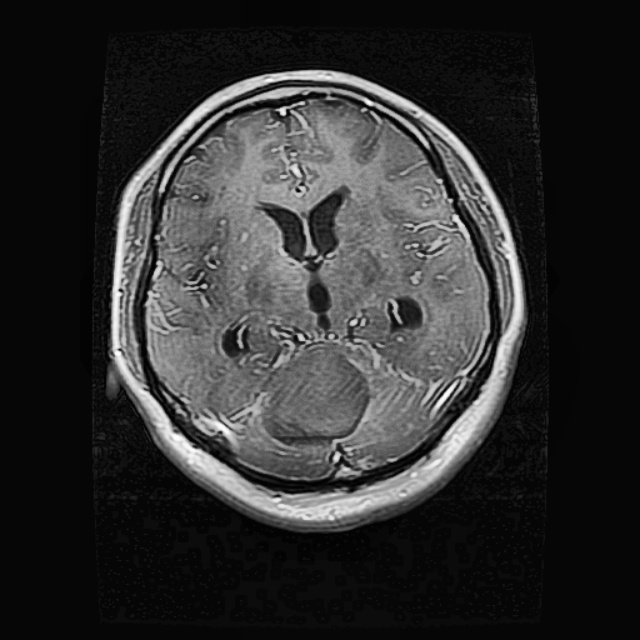Glioma: (254, 342, 362, 435)
